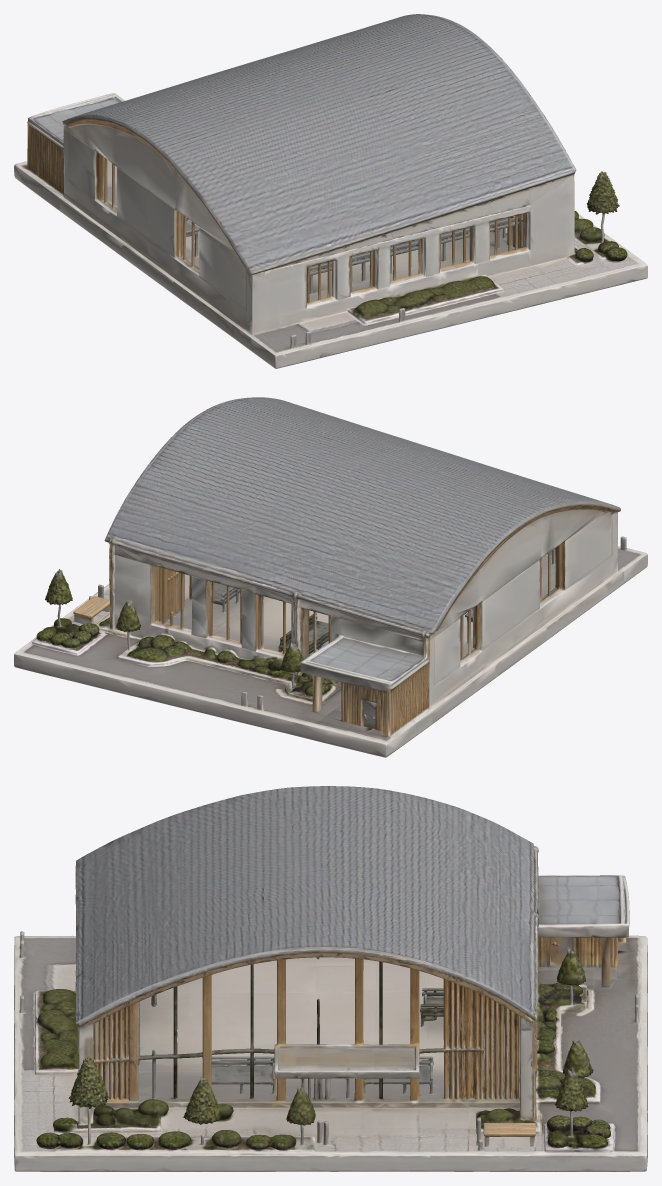
File: b6-aquatic.glb
The picture shows the model from 3 angles, top to bottom: view 1: azimuth 30°, elevation 25°; view 2: azimuth 150°, elevation 25°; view 3: azimuth 270°, elevation 25°; orthographic projection. The views are drawn at different scales.
Parts seen in each view (by area): view 1: tripo_node_262c2073-b7cc-4b76-a841-2c2bc63c2cf0; view 2: tripo_node_262c2073-b7cc-4b76-a841-2c2bc63c2cf0; view 3: tripo_node_262c2073-b7cc-4b76-a841-2c2bc63c2cf0.
Part boxes in pixels (box(x1,y1,x2,y2)): tripo_node_262c2073-b7cc-4b76-a841-2c2bc63c2cf0: box(14, 14, 647, 368); tripo_node_262c2073-b7cc-4b76-a841-2c2bc63c2cf0: box(14, 397, 647, 757); tripo_node_262c2073-b7cc-4b76-a841-2c2bc63c2cf0: box(14, 786, 647, 1171).
Size of the model in its own units: 0.8094 by 0.3368 by 0.9815.
1 material, 1 textured.
